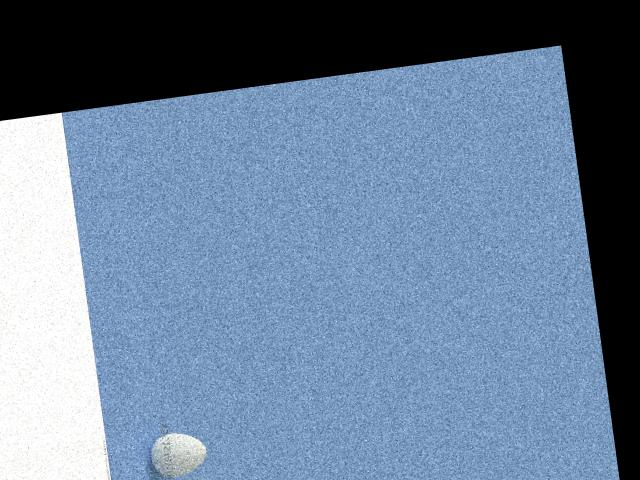egg: (147, 428, 209, 479)
